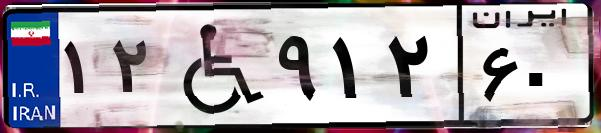0: (525, 38, 570, 115)
1: (330, 28, 385, 110), (57, 26, 110, 100)
2: (385, 28, 445, 110), (110, 28, 158, 98)
6: (475, 38, 525, 113)
9: (270, 28, 330, 110)
ژ (معلولین و جانبازان): (158, 12, 270, 120)
